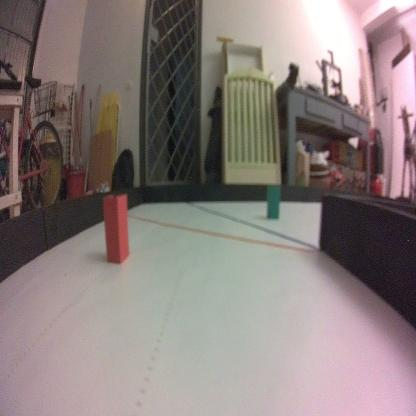green: (266, 183, 281, 221)
red: (102, 193, 130, 265)
